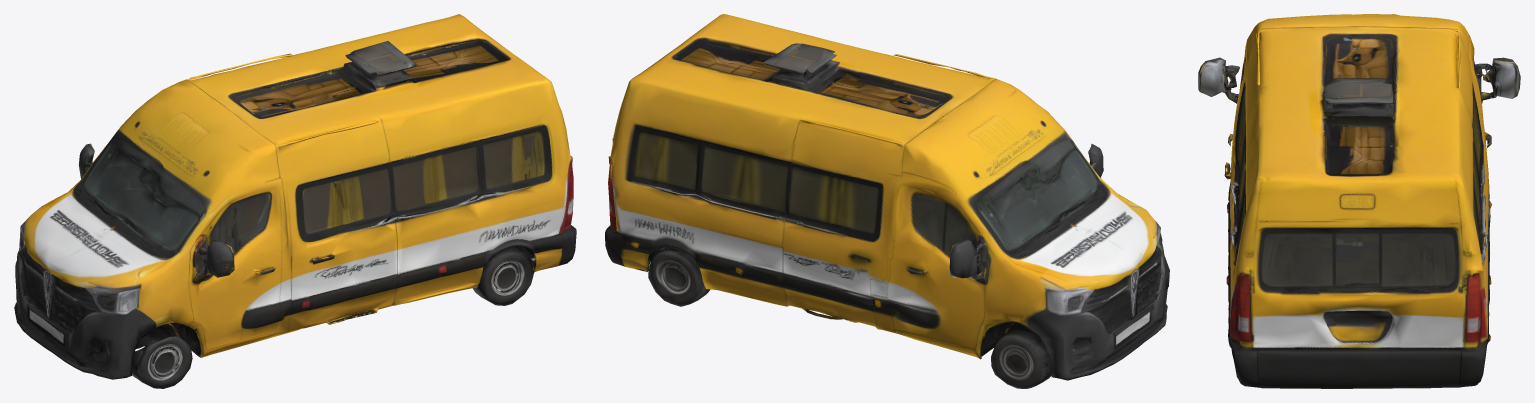
The model's file is result.gltf.
3 renders of one model, left to right at view 1: azimuth 30°, elevation 25°; view 2: azimuth 150°, elevation 25°; view 3: azimuth 270°, elevation 25°, orthographic. The views are drawn at different scales.
Parts seen in each view (by area): view 1: nodes[0]; view 2: nodes[0]; view 3: nodes[0].
Boxes of the visible parts, left/top/right/bottom form: nodes[0]: left=14, top=14, right=576, bottom=388; nodes[0]: left=605, top=14, right=1169, bottom=388; nodes[0]: left=1198, top=14, right=1520, bottom=388.
Bounding box in the file's own units: 1.99 × 0.9077 × 1.04.
1 material, 1 textured.
